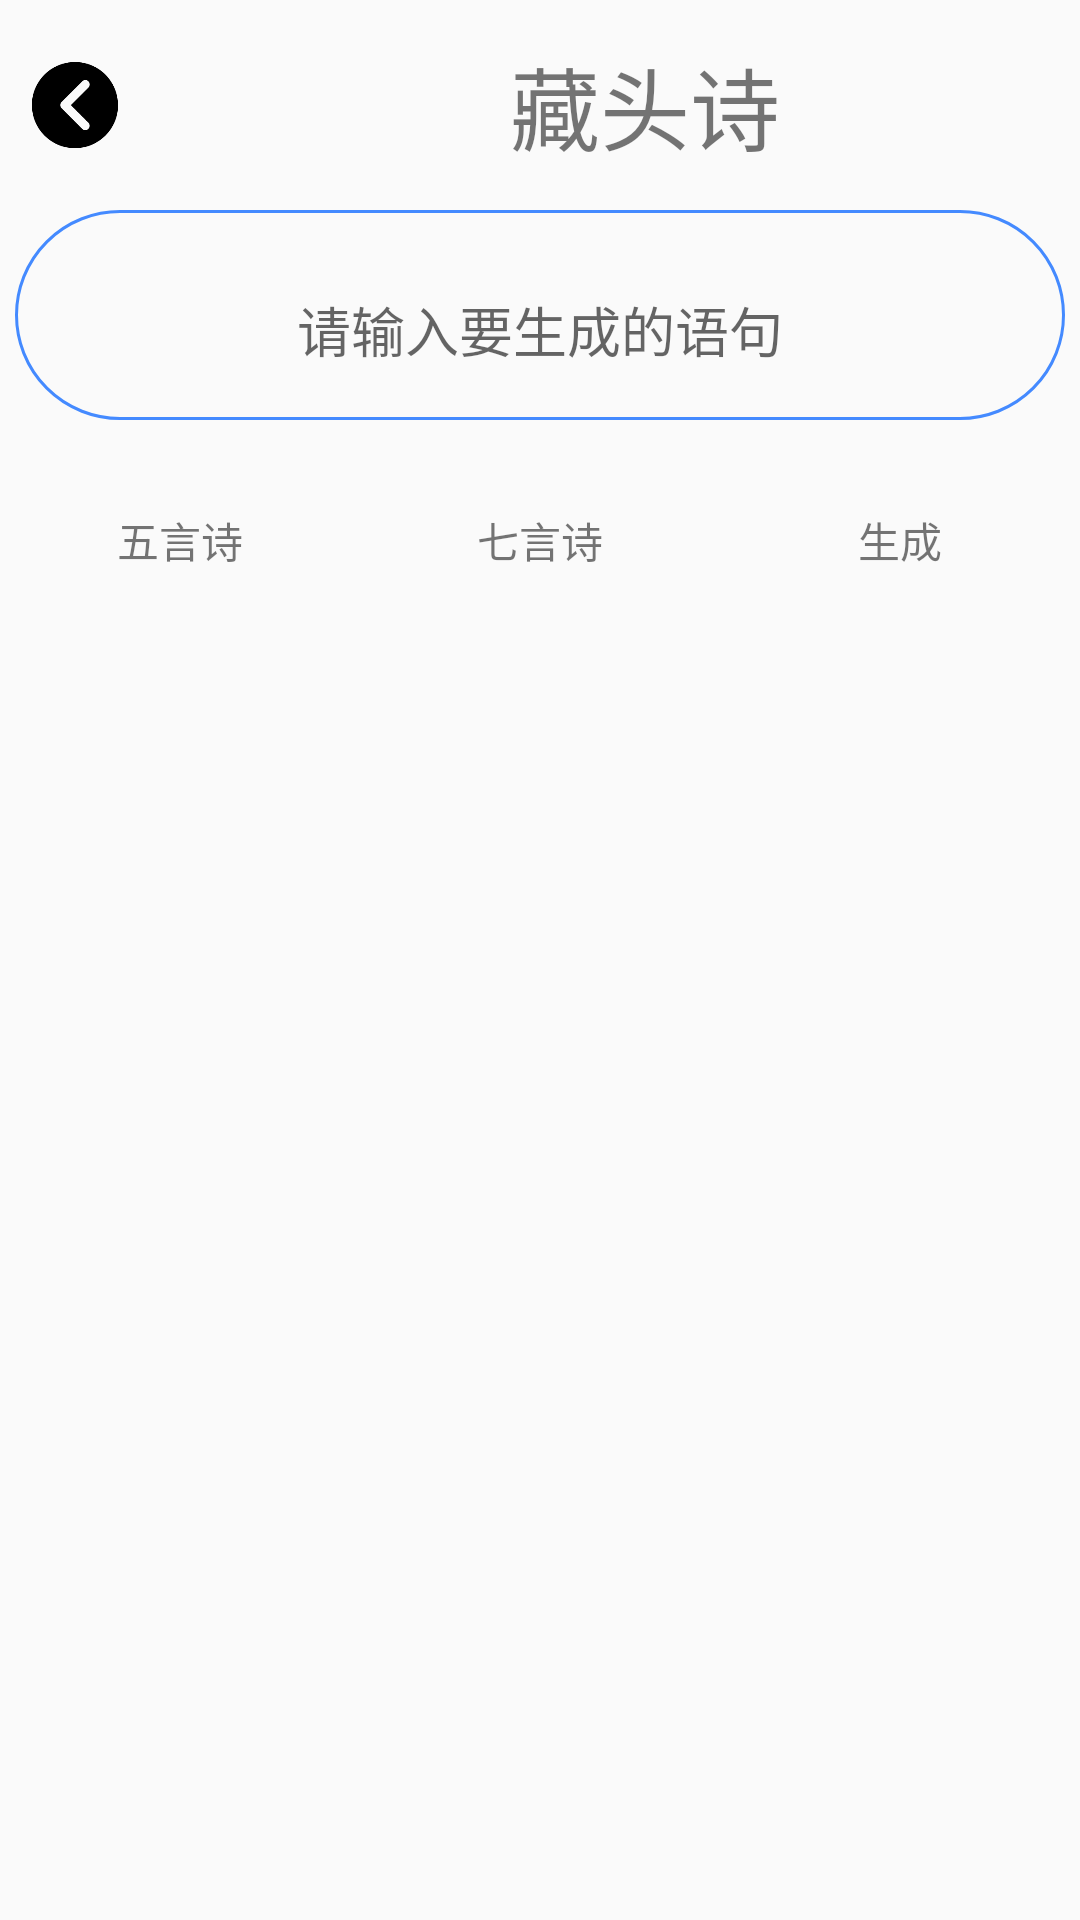

Icons on this 1080px x 1920px Android screen, each with the point to tap as point (x, y):
back: point (75, 105)
